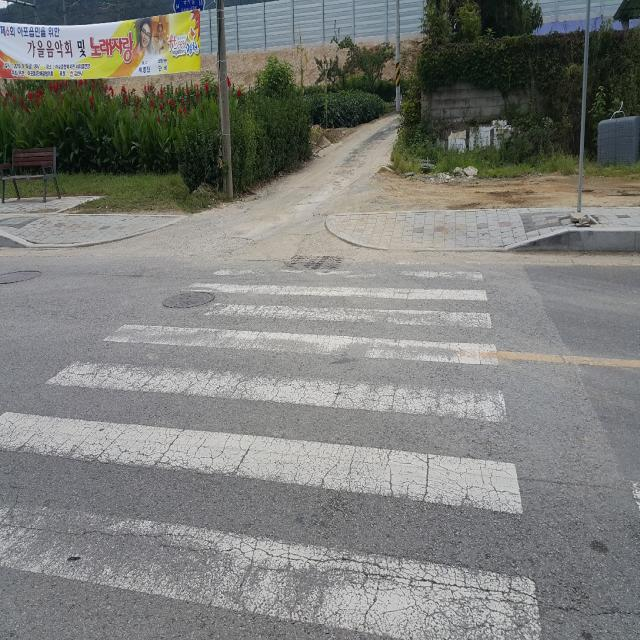횡단보도: (0, 270, 543, 639)
